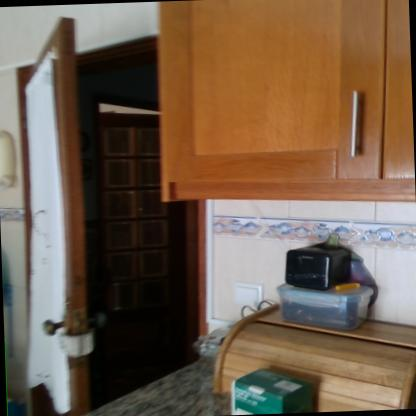semi: (13, 5, 193, 416)
